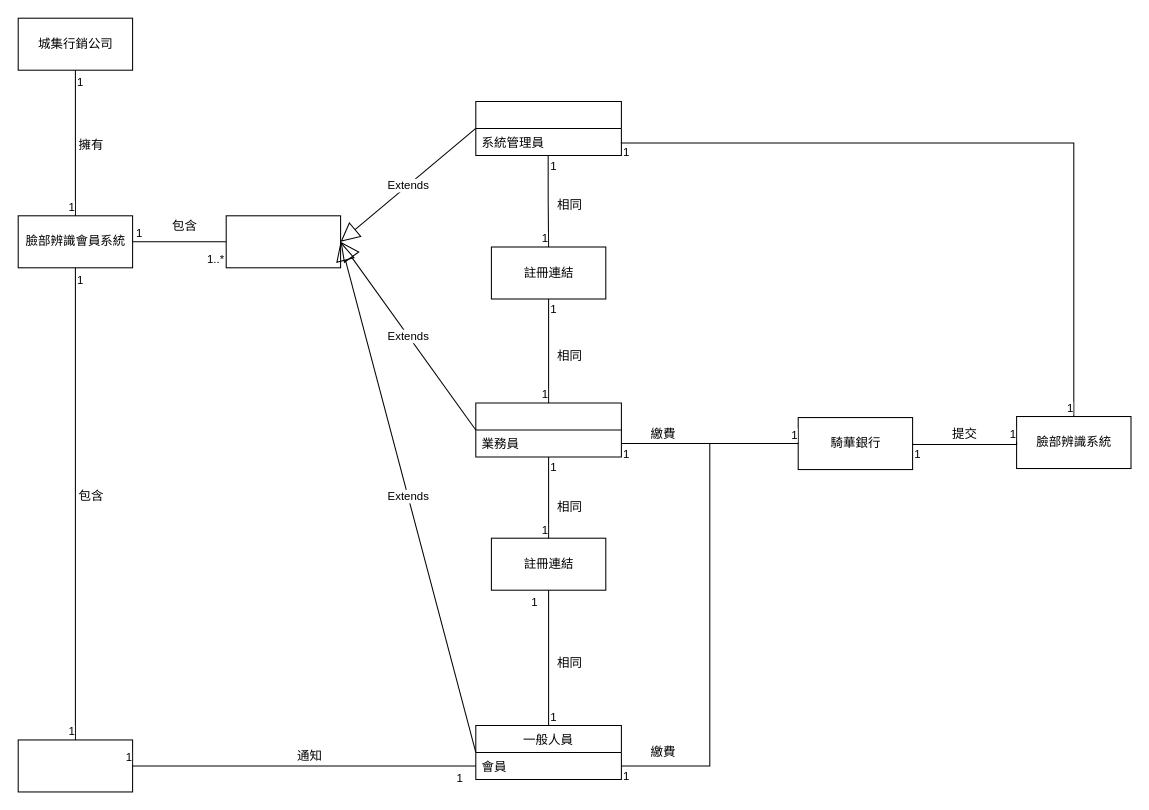
Image size: 1149x810. Some labels were removed from this diagram. Here are the shapes that lost their labels. From the top down, the box of each, then its label:
(475, 100, 621, 155): 系統人員
(225, 215, 341, 268): 人員
(475, 402, 621, 457): 工作人員
(17, 739, 133, 792): 華鐘電信
